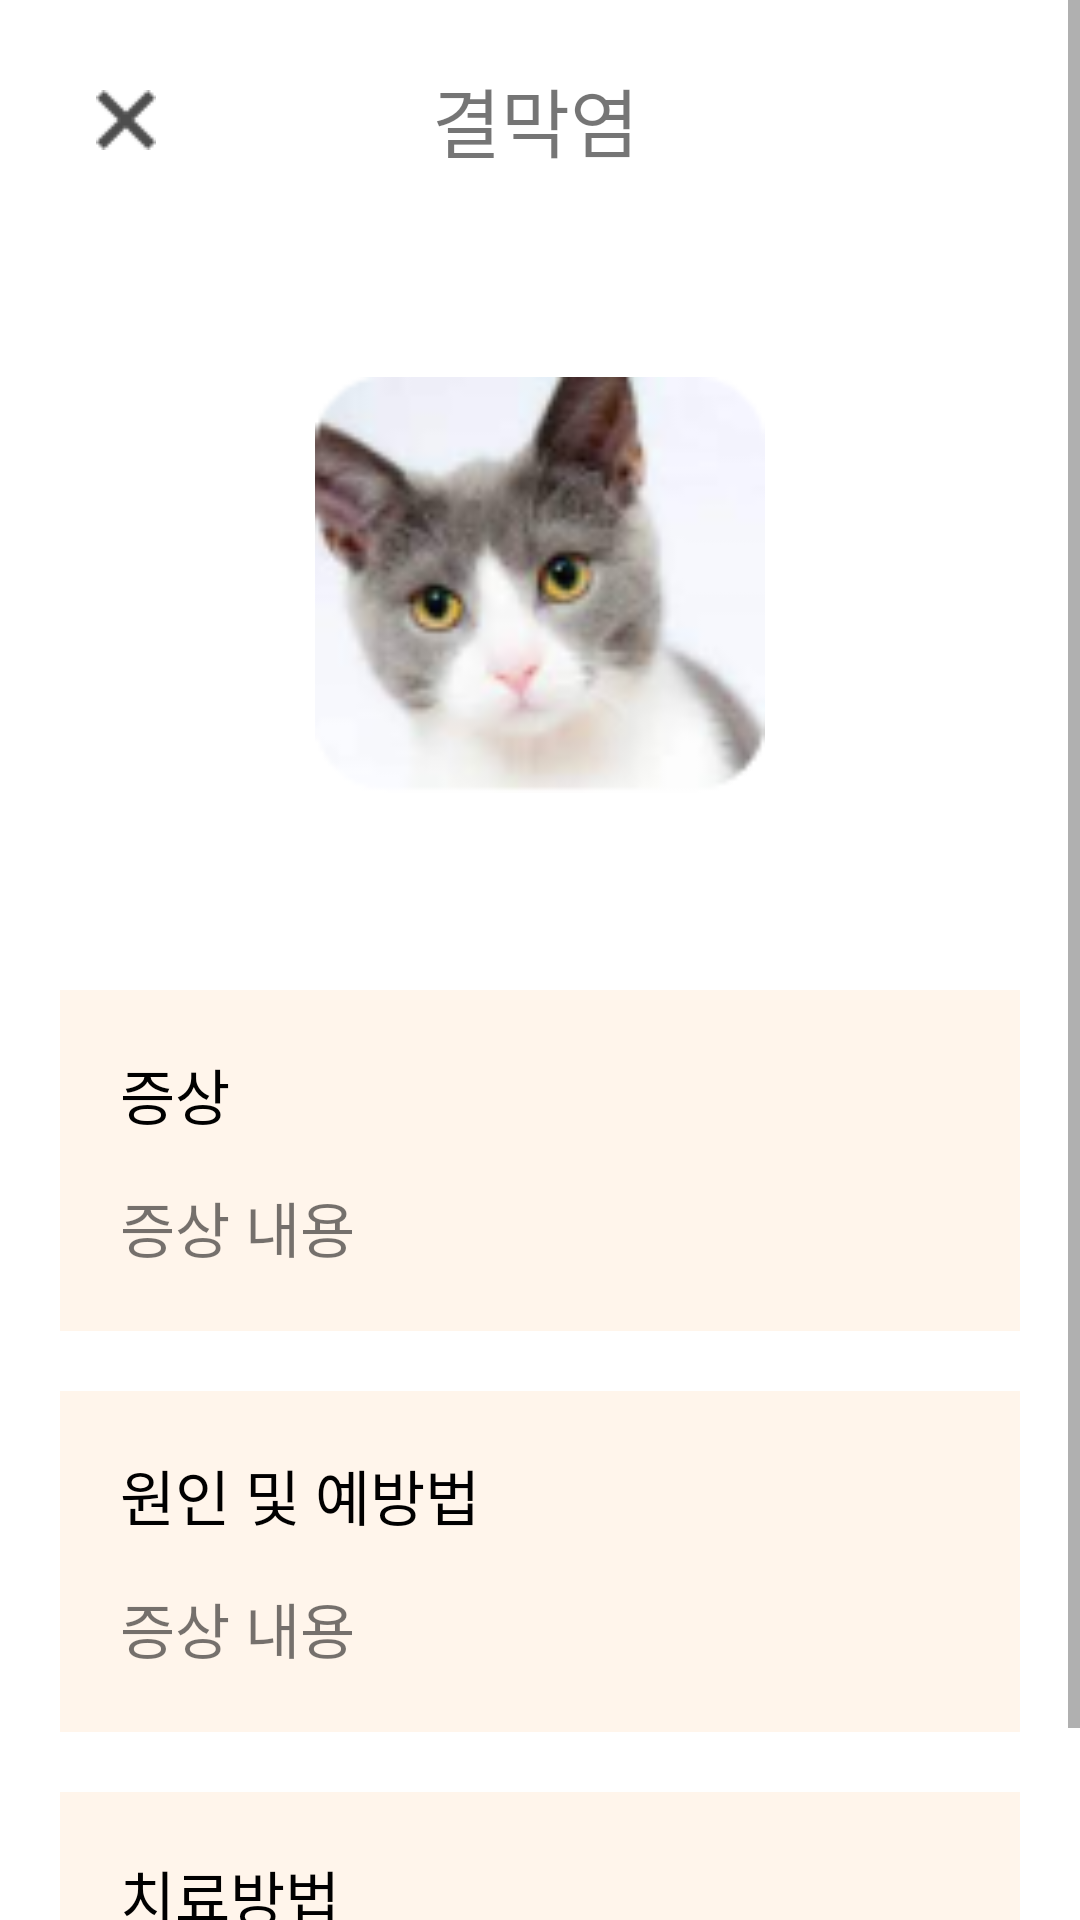

Named icons in this screenshot (1080×1920) and their centers, point (x, y):
closebutton: point (126, 120)
